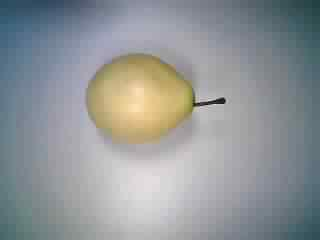pear: (80, 42, 232, 154)
